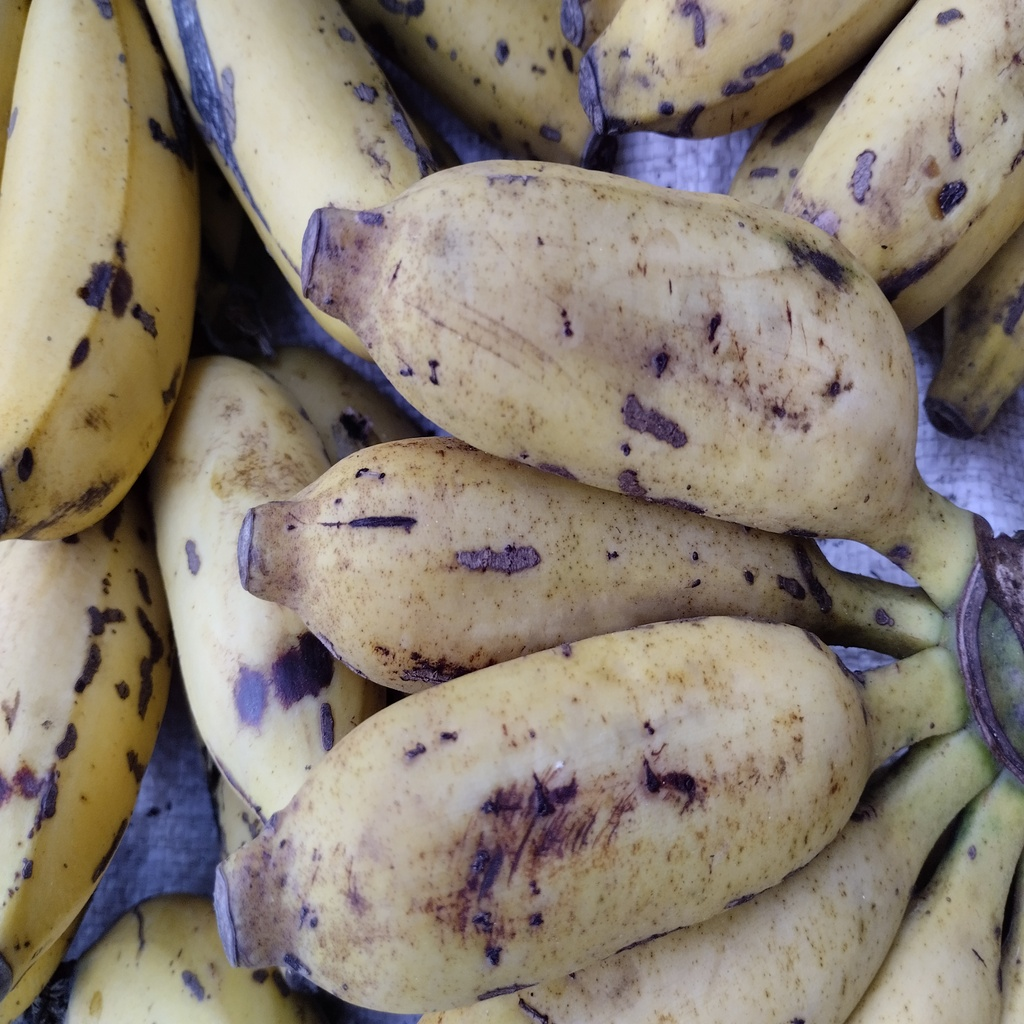unhealthy: (234, 614, 855, 1009), (325, 157, 925, 530), (231, 435, 851, 700)
